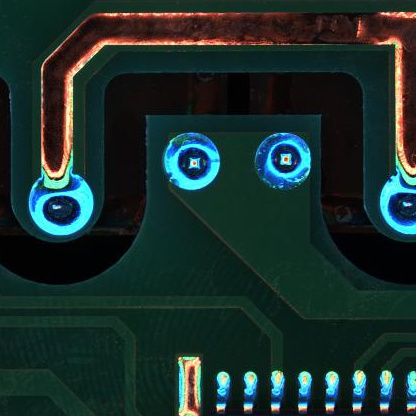spot: (29, 172, 94, 237), (253, 132, 313, 191), (161, 131, 219, 189)
